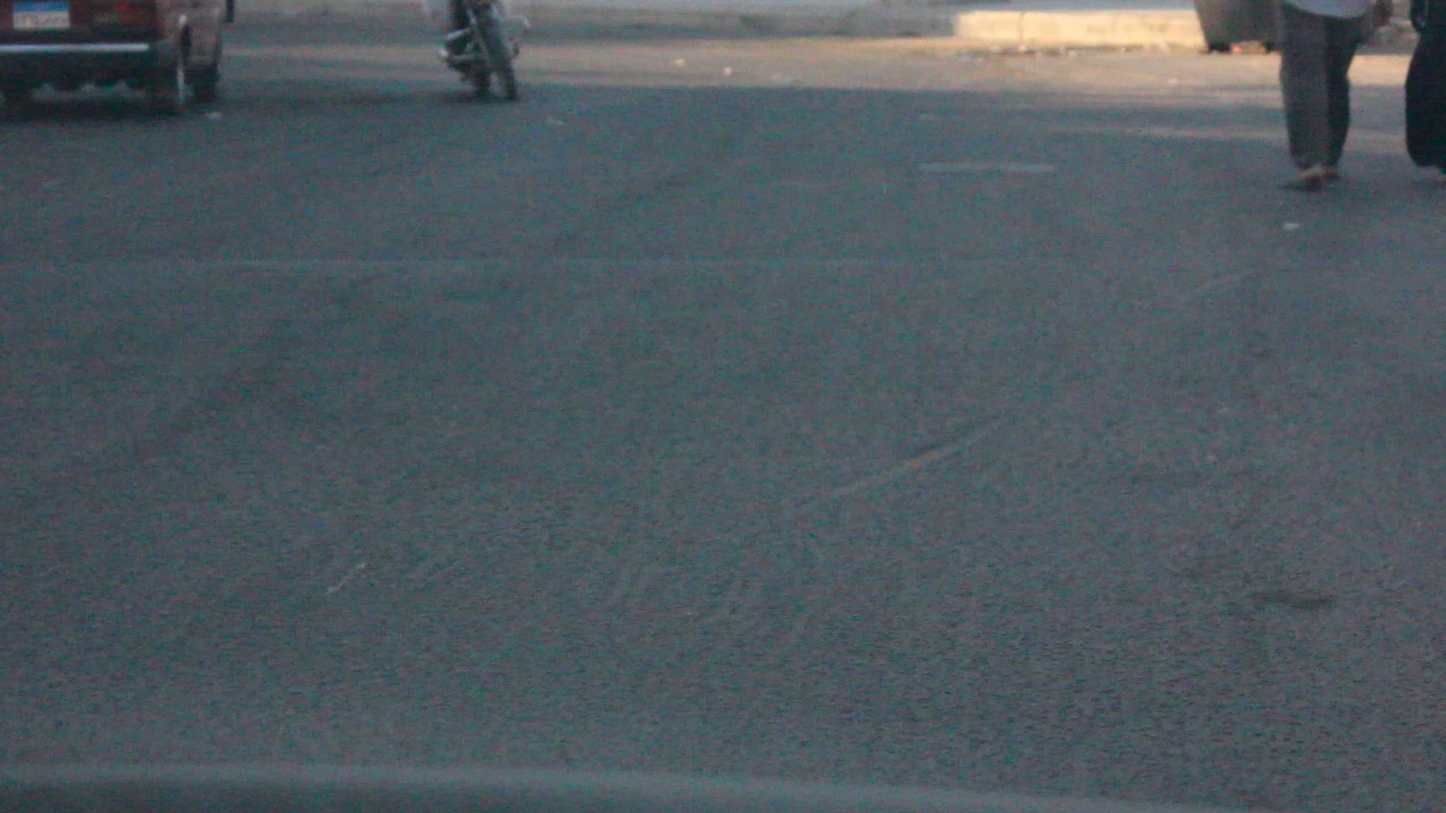Bump: (0, 252, 1446, 435)
